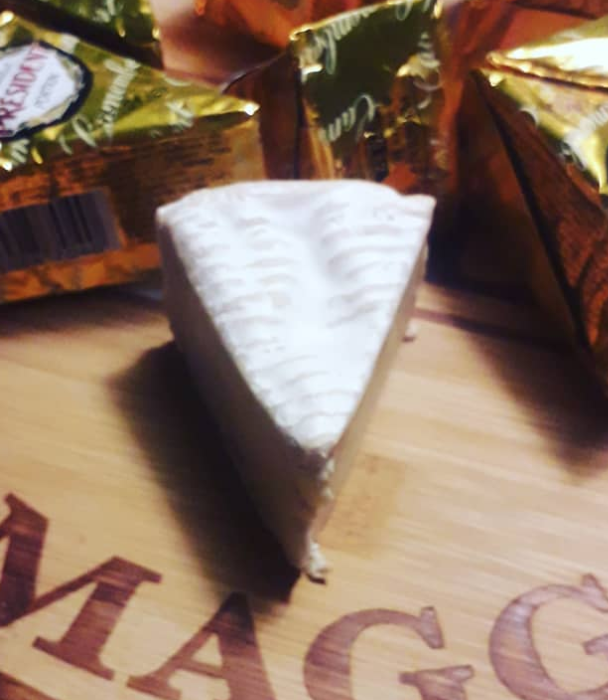camembert: (153, 177, 438, 586)
